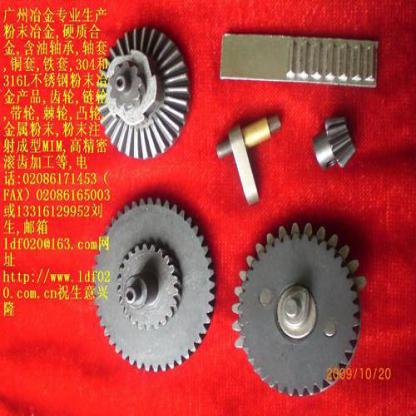FOD: (230, 221, 367, 400), (92, 194, 217, 373), (96, 20, 193, 160), (309, 112, 357, 174)
